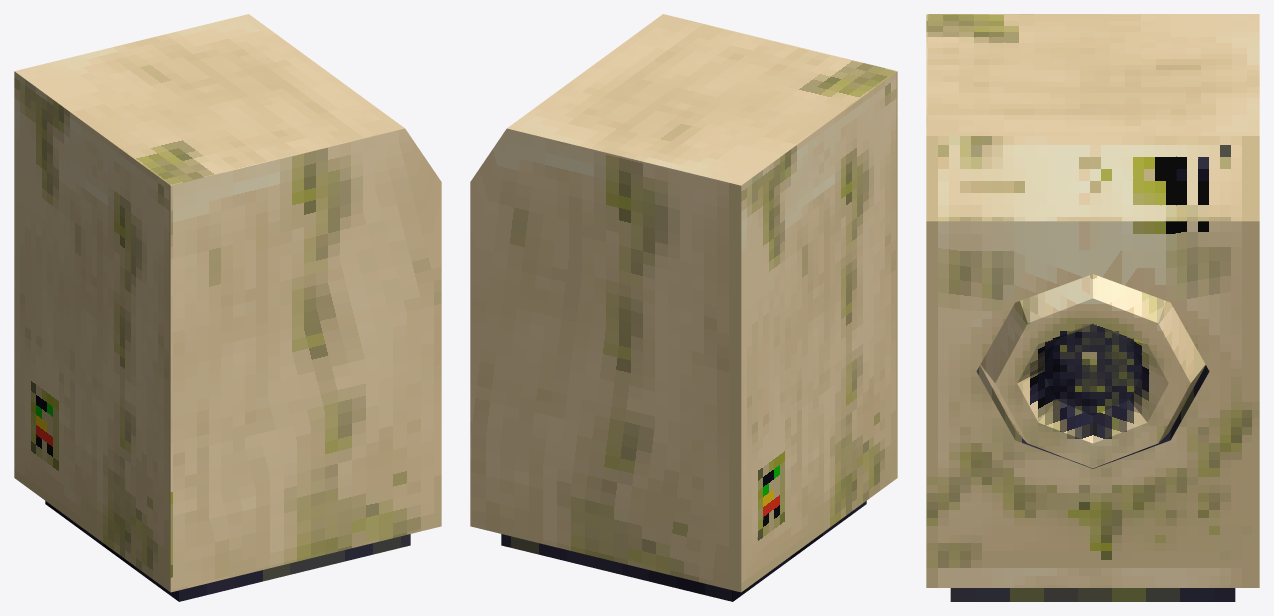
Rendered from psx-washingmachine.glb.
3 renders of one model, left to right at view 1: azimuth 30°, elevation 25°; view 2: azimuth 150°, elevation 25°; view 3: azimuth 270°, elevation 25°, orthographic. The views are drawn at different scales.
Visible parts, largest first — view 1: wm-body; view 2: wm-body; view 3: wm-body, wm-front-door.
Part boxes in pixels (x1,y1,x2,y2): wm-body: (14,14,441,601); wm-body: (470,14,897,601); wm-body: (926,14,1259,601); wm-front-door: (980,274,1205,468).
Bounding box in the file's own units: 2.17 × 3.03 × 2.
1 material, 1 textured.
